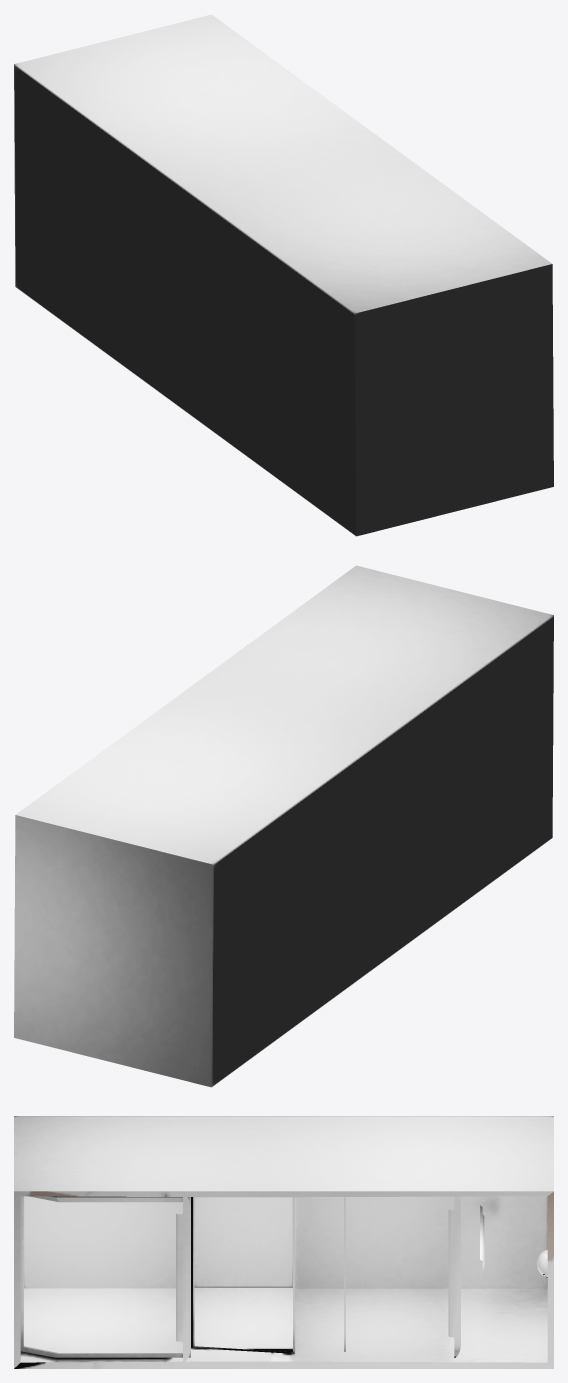
The model's file is body_brighter3.glb.
3 renders of one model, top to bottom at view 1: azimuth 30°, elevation 25°; view 2: azimuth 150°, elevation 25°; view 3: azimuth 270°, elevation 25°, orthographic. The views are drawn at different scales.
Parts seen in each view (by area): view 1: frl_apartment_refrigerator; view 2: frl_apartment_refrigerator; view 3: frl_apartment_refrigerator.
Boxes of the visible parts, x1,y1,x2,y2 form: frl_apartment_refrigerator: [14, 14, 553, 536]; frl_apartment_refrigerator: [14, 565, 553, 1087]; frl_apartment_refrigerator: [14, 1116, 553, 1368].
Size of the model in its own units: 0.6497 by 0.6973 by 1.92.
2 materials, 2 textured.
